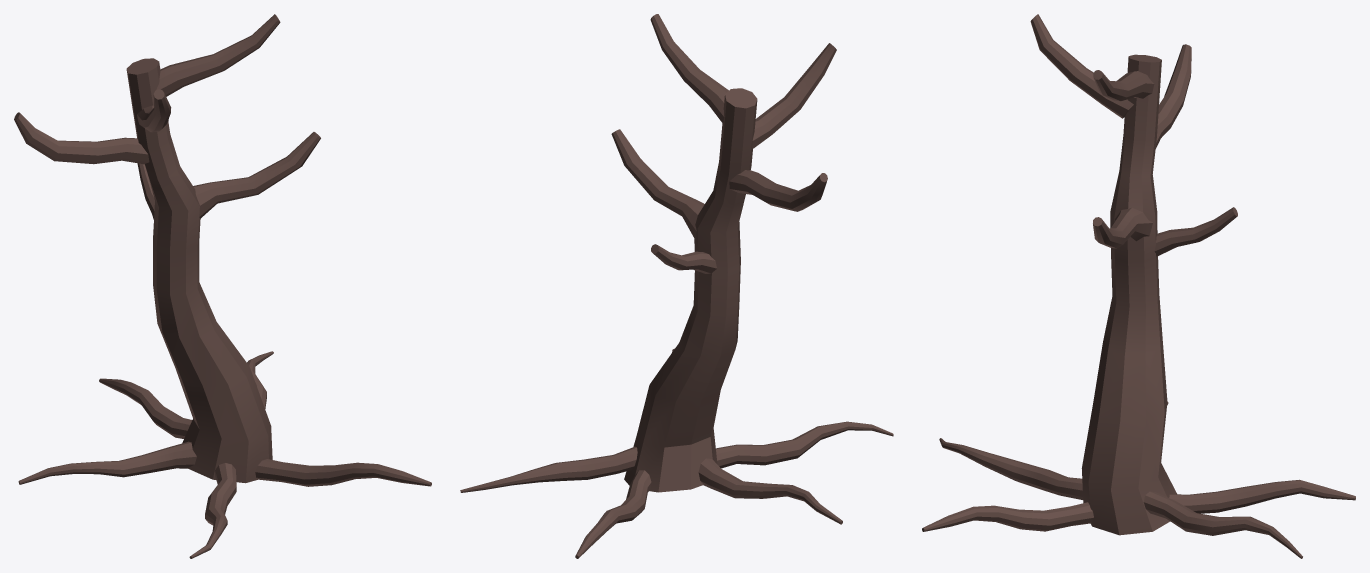
The model's file is Mesh_dead_tree_1.fbx.
The picture shows the model from 3 angles, left to right: view 1: azimuth 30°, elevation 25°; view 2: azimuth 150°, elevation 25°; view 3: azimuth 270°, elevation 25°; orthographic projection. The views are drawn at different scales.
Parts seen in each view (by area): view 1: dead_tree_1; view 2: dead_tree_1; view 3: dead_tree_1.
Boxes of the visible parts, bbox=[...] form: dead_tree_1: bbox=[14, 14, 431, 558]; dead_tree_1: bbox=[460, 14, 893, 558]; dead_tree_1: bbox=[922, 14, 1355, 558].
Bounding box in the file's own units: 521 × 709 × 604.
1 material, 1 textured.
